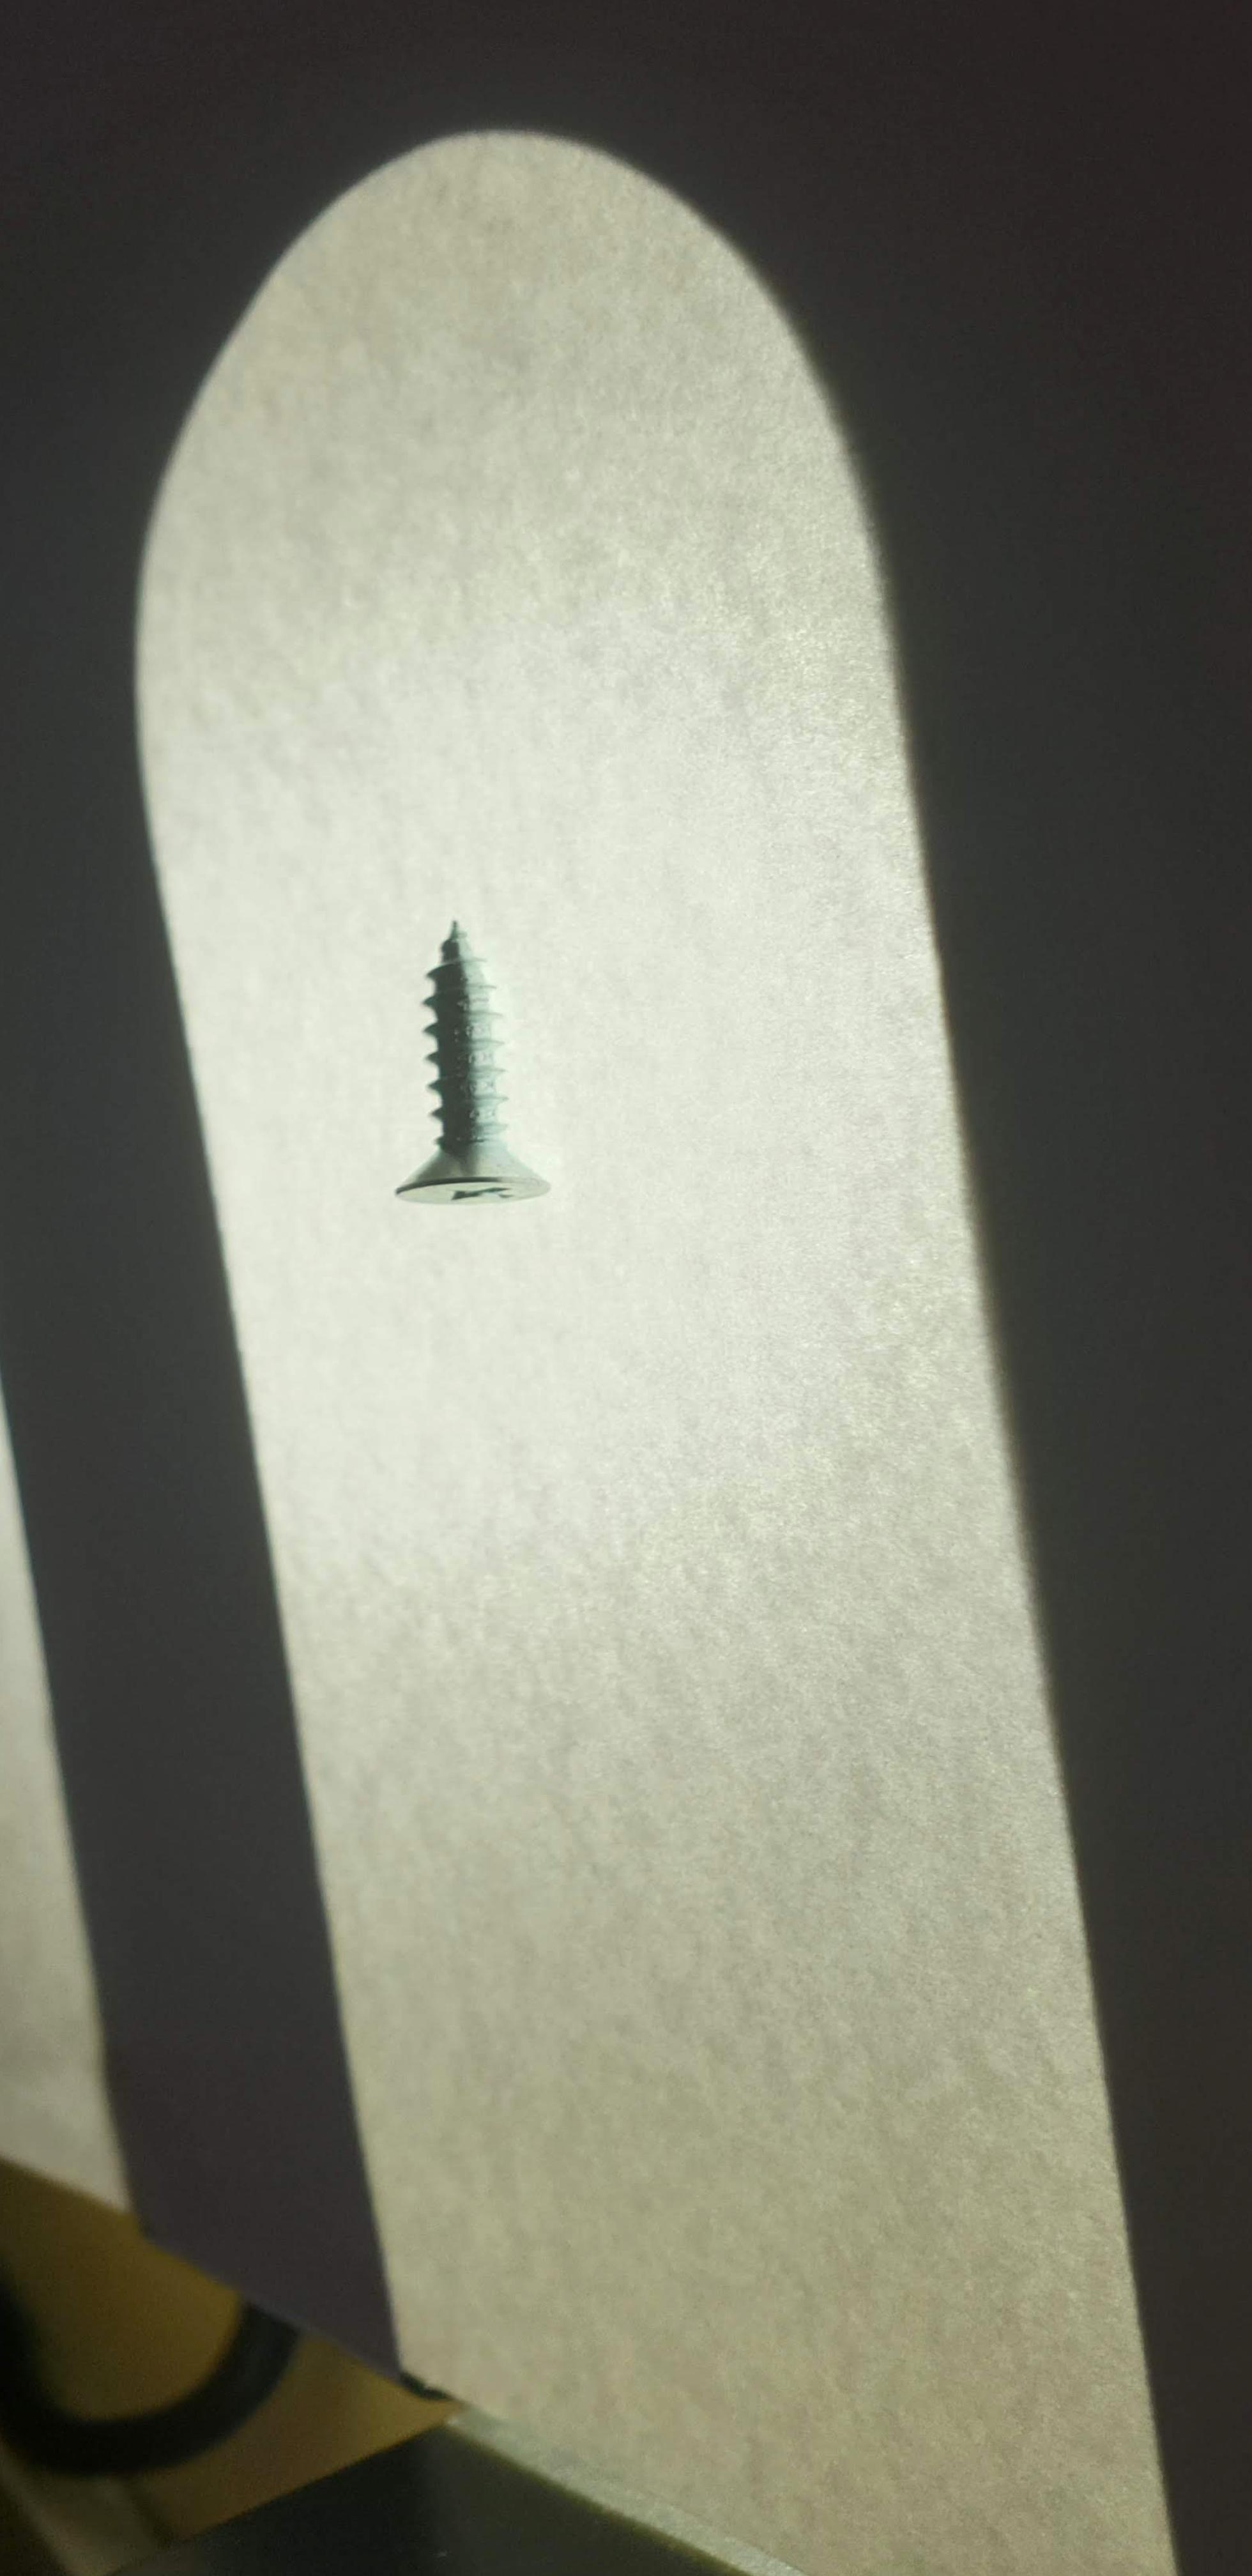S003: (368, 867, 591, 1265)
